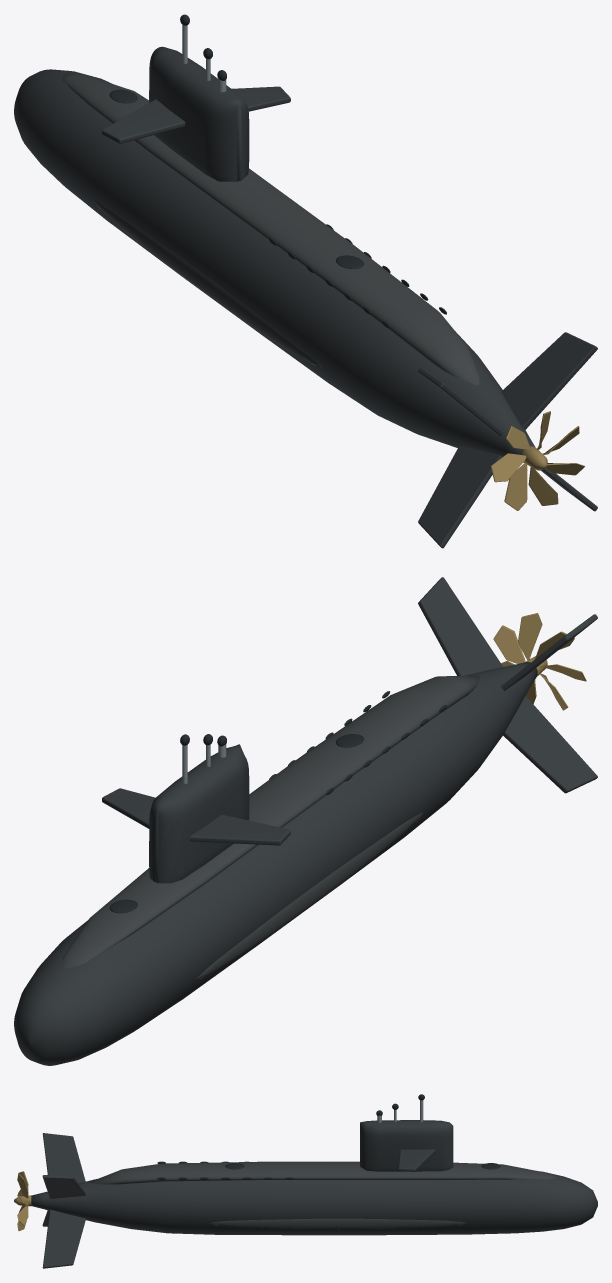
Rendered from taigei.glb.
3 views of the same model, one above another, from view 1: azimuth 30°, elevation 25°; view 2: azimuth 150°, elevation 25°; view 3: azimuth 270°, elevation 25° (orthographic). The views are drawn at different scales.
Parts seen in each view (by area): view 1: Taigei_Hull, Taigei_Propeller; view 2: Taigei_Hull, Taigei_Propeller; view 3: Taigei_Hull, Taigei_Propeller.
Part boxes in pixels (left/top/right/bottom): Taigei_Hull: left=14, top=14, right=597, bottom=548; Taigei_Propeller: left=491, top=411, right=584, bottom=510; Taigei_Hull: left=14, top=577, right=597, bottom=1065; Taigei_Propeller: left=493, top=613, right=586, bottom=710; Taigei_Hull: left=31, top=1094, right=597, bottom=1268; Taigei_Propeller: left=14, top=1171, right=31, bottom=1230.
Size of the model in its own units: 1.92 by 2.77 by 9.57.
